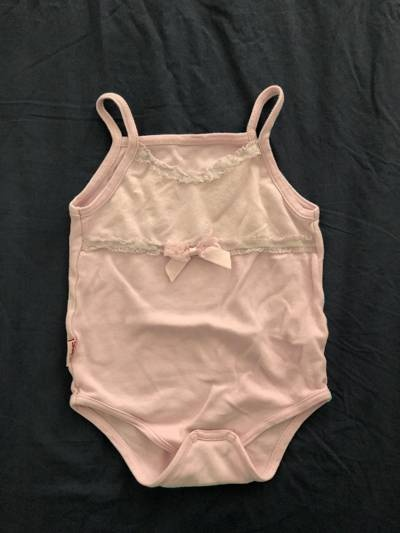Body: (30, 64, 361, 505)
